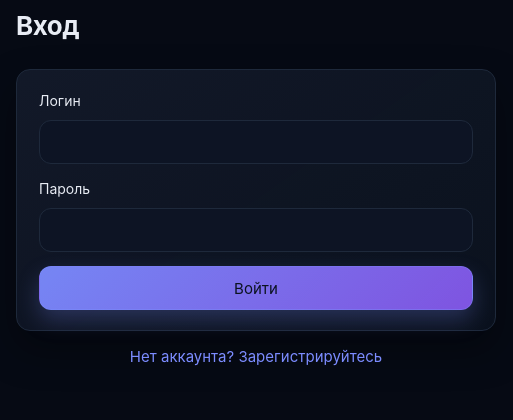
Scenario: AuthPage › shows backend error
Type "alice" into the field labelled "Логин" at (256, 142), box [39,120,473,164]
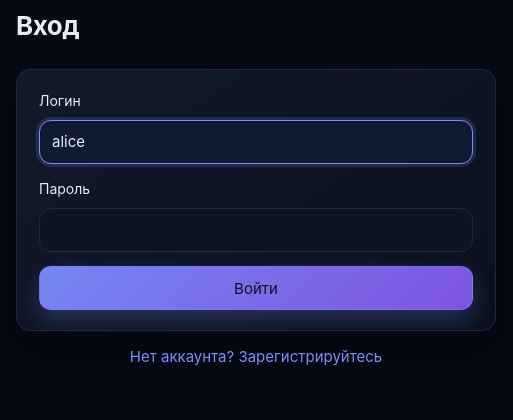
Type "wrong" into the password field labelled "Пароль" at (256, 230), box [39,208,473,252]
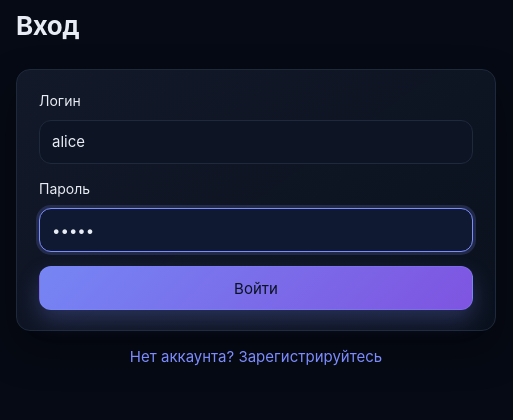
Click the button "Войти" at (256, 288), box [39,266,473,310]
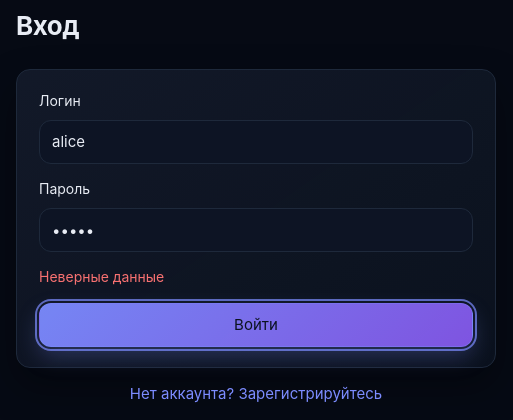
Check: the text "Неверные данные" is shown, box [39,268,164,285]
